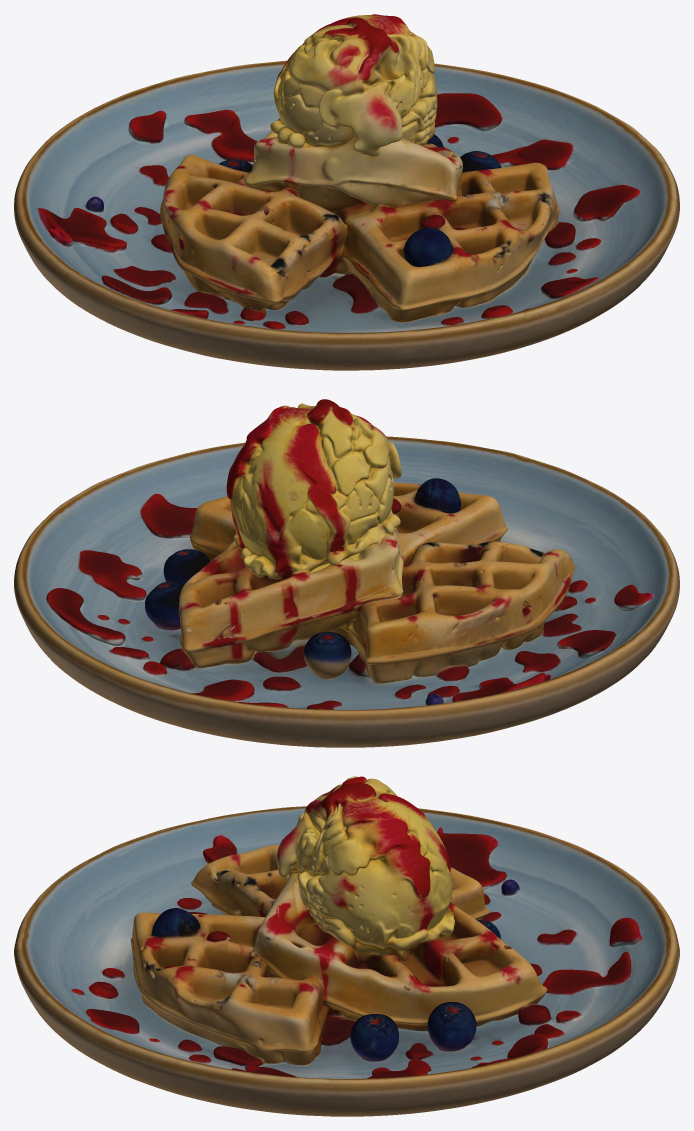
Rendered from waffle-optimized.glb.
3 views of the same model, one above another, from view 1: azimuth 30°, elevation 25°; view 2: azimuth 150°, elevation 25°; view 3: azimuth 270°, elevation 25° (orthographic).
Parts seen in each view (by area): view 1: tripo_node_d159e3de-9843-41d9-b4e9-085efb6a16ea; view 2: tripo_node_d159e3de-9843-41d9-b4e9-085efb6a16ea; view 3: tripo_node_d159e3de-9843-41d9-b4e9-085efb6a16ea.
Boxes of the visible parts, x1,y1,x2,y2 form: tripo_node_d159e3de-9843-41d9-b4e9-085efb6a16ea: (14,14,679,370); tripo_node_d159e3de-9843-41d9-b4e9-085efb6a16ea: (14,399,679,747); tripo_node_d159e3de-9843-41d9-b4e9-085efb6a16ea: (14,776,679,1116).
Size of the model in its own units: 0.9779 by 0.3789 by 0.9789.
Materials: 1 (1 with a texture image).
